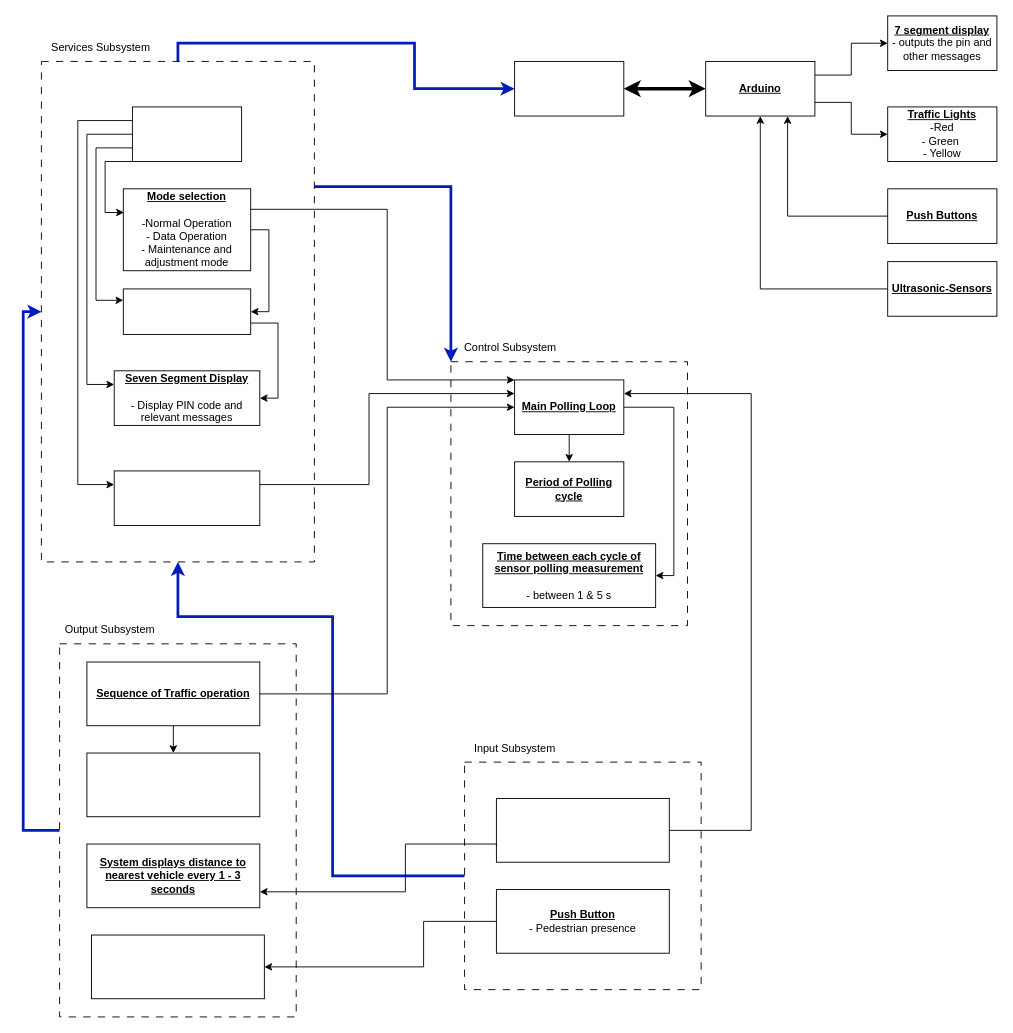
Image size: 1013x1033. Some labels were removed from this diagram. Each missing label, with the centre of its shape:
Authentication System - pin to authenticate the user: pixel 186 311
Computer: pixel 569 88
Current stage of traffic operation displayed on console: pixel 173 784
Graphing - Displays traffic distance for the last 20s: pixel 186 498
Presence of pedestrians displayed in terms of the number of pushes: pixel 177 966
System Menu: pixel 186 134
Ultrasonic Sensor - Records distance measurement: pixel 582 830
